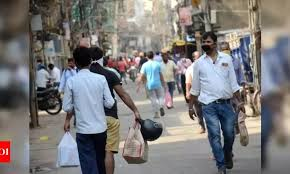mask: (200, 30, 217, 53), (161, 49, 170, 63), (65, 57, 73, 70)
